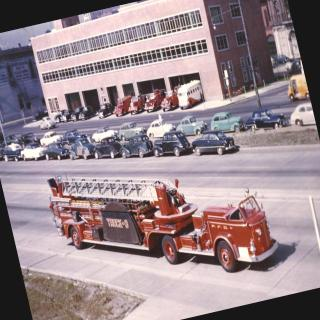Fire_truck: (42, 128, 282, 310)
